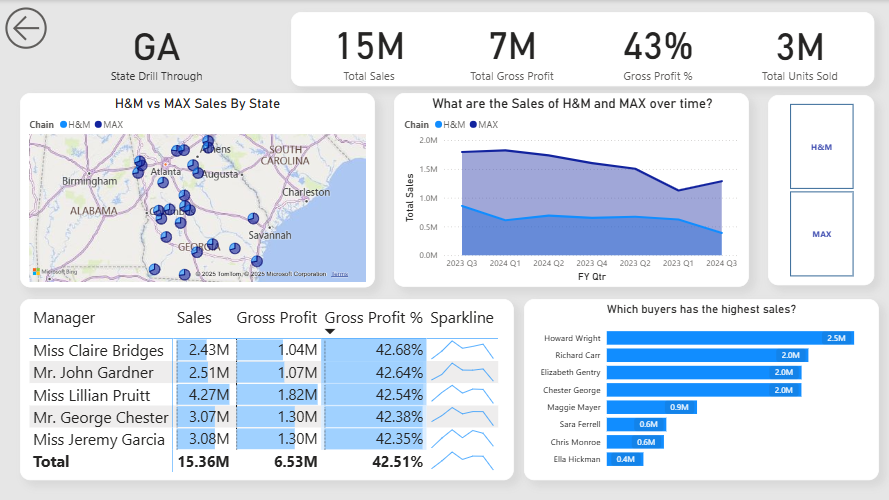

This screenshot's page, from the dashboard's own definition file:
{"tool":"powerbi","page":{"name":"State Drill Through","canvas":[1280,720],"ordinal":1},"visuals":[{"type":"shape","box":[419,17.3,839.5,106.6],"z":0},{"type":"shape","box":[567.4,133.9,511.2,279.4],"z":1000},{"type":"shape","box":[29.1,133.3,511,280.3],"z":2000},{"type":"shape","box":[28.8,430.3,710.6,260.6],"z":3000},{"type":"shape","box":[754.5,430.3,510.6,260.6],"z":4000},{"type":"clusteredBarChart","title":"Which buyers has the highest sales?","fields":{"Y":["Sales.Total Sales"],"Category":["Buyer.Buyer"]},"box":[762.1,434.8,497,251.5],"z":5000},{"type":"map","title":"H&M vs MAX Sales By State","fields":{"Category":["Sales.Postcode"],"Size":["Sales.Total Sales"],"Series":["Sales.Chain"]},"box":[37.9,136.4,494,274.2],"z":6000},{"type":"areaChart","title":"What are the Sales of H&M and MAX over time?","fields":{"Category":["Date.FY Qtr"],"Y":["Sales.Total Sales"],"Series":["Sales.Chain"]},"box":[577.3,136.4,493.9,274.2],"z":7000},{"type":"card","fields":{"Values":["Sales.Total Units Sold"]},"box":[1055.5,20,193,100.8],"z":8000},{"type":"pivotTable","fields":{"Rows":["Manager.Manager Full Name"],"Values":["Sales.Total Sales","Sales.Total Gross Profit","Sales.Gross Profit %","SparklineData(Sales.Total Sales_[Date.FY Qtr])"]},"box":[37.4,434.9,694.1,252],"z":9000},{"type":"card","fields":{"Values":["Min(State.State)"]},"box":[75.8,19.7,298.5,101.5],"z":10000},{"type":"card","fields":{"Values":["Sales.Total Gross Profit"]},"box":[640.8,20.2,193,100],"z":11000},{"type":"card","fields":{"Values":["Sales.Gross Profit %"]},"box":[851,20.2,193,100],"z":12000},{"type":"slicer","fields":{"Values":["Sales.Chain"]},"box":[1106.1,136.4,153,274.2],"z":13000},{"type":"card","fields":{"Values":["Sales.Total Sales"]},"box":[434.9,20.2,193,100],"z":14000},{"type":"actionButton","box":[0,0,75,80],"z":15000}]}

Visuals, with their boxes in screenshot pixels (x1, y1, x2, y2), scaled from the page's 1280x720 canvas onto the 889x500 screenshot:
shape: x1=291 y1=12 x2=874 y2=86
shape: x1=394 y1=93 x2=749 y2=287
shape: x1=20 y1=93 x2=375 y2=287
shape: x1=20 y1=299 x2=514 y2=480
shape: x1=524 y1=299 x2=879 y2=480
"Which buyers has the highest sales?" clusteredBarChart: x1=529 y1=302 x2=874 y2=477
"H&M vs MAX Sales By State" map: x1=26 y1=95 x2=369 y2=285
"What are the Sales of H&M and MAX over time?" areaChart: x1=401 y1=95 x2=744 y2=285
card - Sales.Total Units Sold: x1=733 y1=14 x2=867 y2=84
pivotTable - Manager.Manager Full Name x Sales.Total Sales: x1=26 y1=302 x2=508 y2=477
card - Min(State.State): x1=53 y1=14 x2=260 y2=84
card - Sales.Total Gross Profit: x1=445 y1=14 x2=579 y2=83
card - Sales.Gross Profit %: x1=591 y1=14 x2=725 y2=83
slicer - Sales.Chain: x1=768 y1=95 x2=874 y2=285
card - Sales.Total Sales: x1=302 y1=14 x2=436 y2=83
actionButton: x1=0 y1=0 x2=52 y2=56
